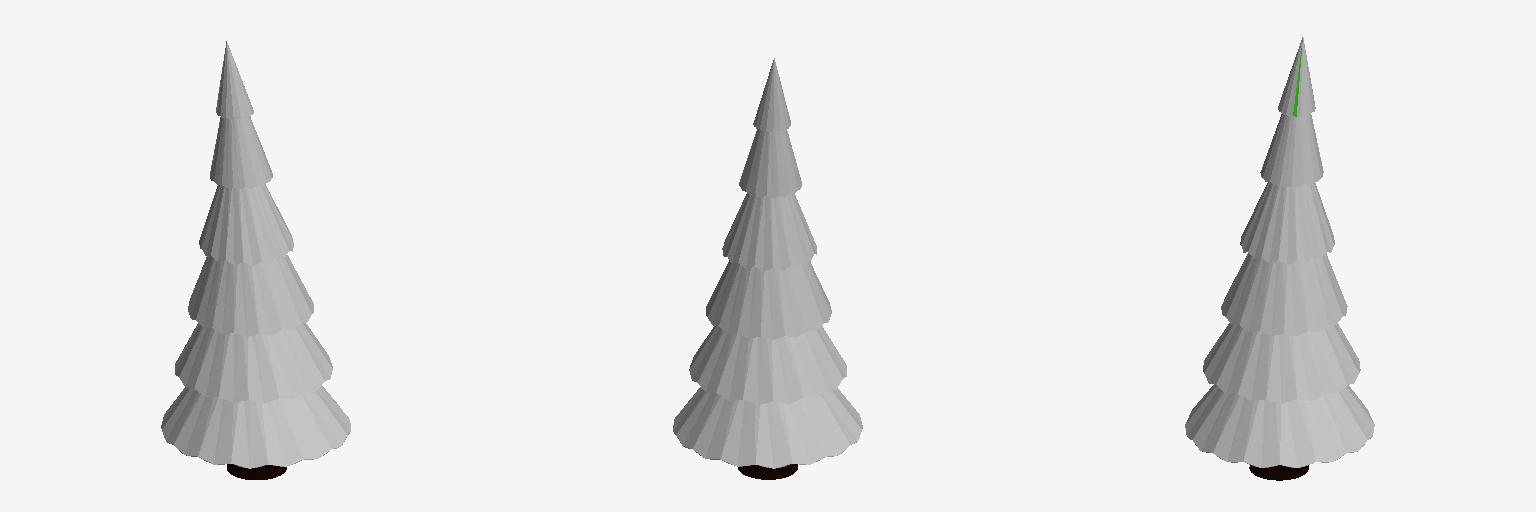
File: lowPolyTree2Snow.obj
The picture shows the model from 3 angles: view 1: azimuth 30°, elevation 25°; view 2: azimuth 150°, elevation 25°; view 3: azimuth 270°, elevation 25°; orthographic projection.
Visible parts, largest first — view 1: Cylinder.001; view 2: Cylinder.001; view 3: Cylinder.001.
Boxes of the visible parts, <box> form: Cylinder.001: <box>161,41,350,479</box>; Cylinder.001: <box>673,58,862,479</box>; Cylinder.001: <box>1185,37,1374,480</box>.
Bounding box in the file's own units: 5.4 × 13.25 × 5.39.